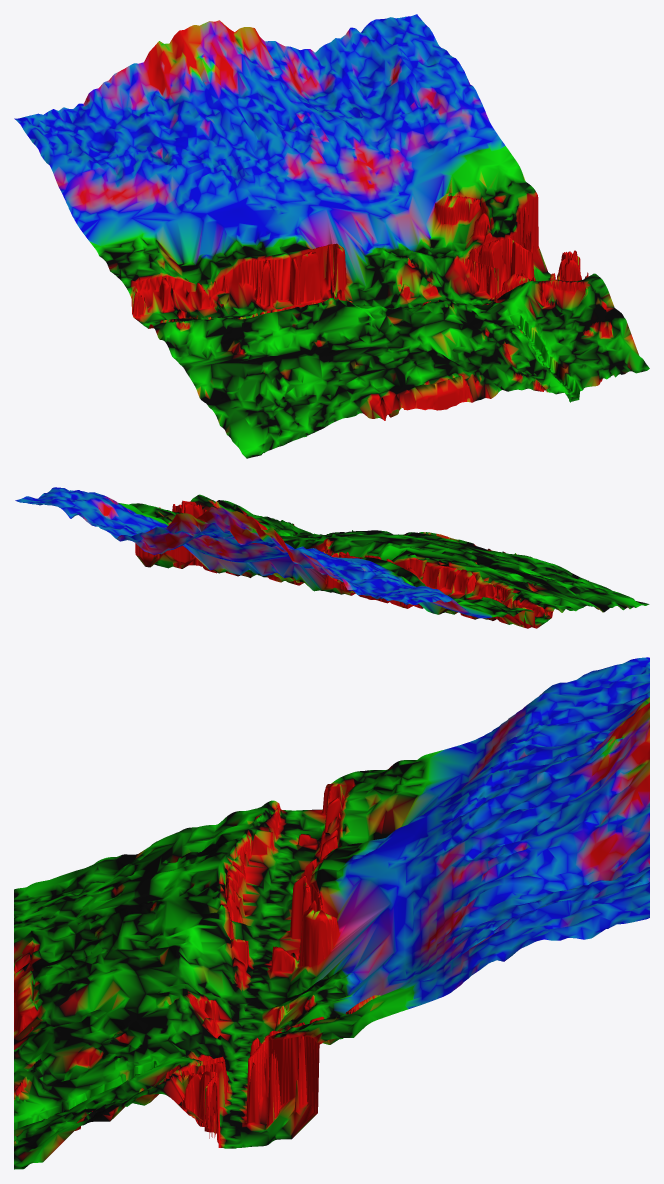
3 views of the same model, one above another, from view 1: azimuth 30°, elevation 25°; view 2: azimuth 150°, elevation 25°; view 3: azimuth 270°, elevation 25° (orthographic). The views are drawn at different scales.
Parts seen in each view (by area): view 1: N_3_2; view 2: N_3_2; view 3: N_3_2.
Boxes of the visible parts, x1,y1,x2,y2 form: N_3_2: (14,14,649,458); N_3_2: (15,487,649,628); N_3_2: (14,657,649,1169).
Size of the model in its own units: 256 by 147 by 256.
